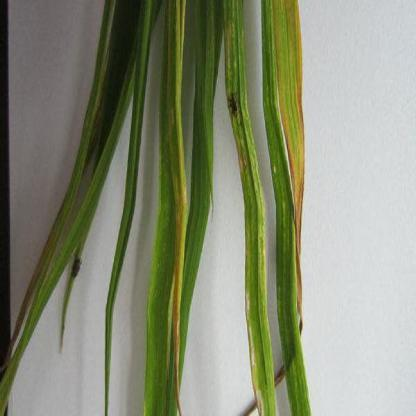rice-bug: (228, 90, 240, 115), (70, 255, 82, 279)
